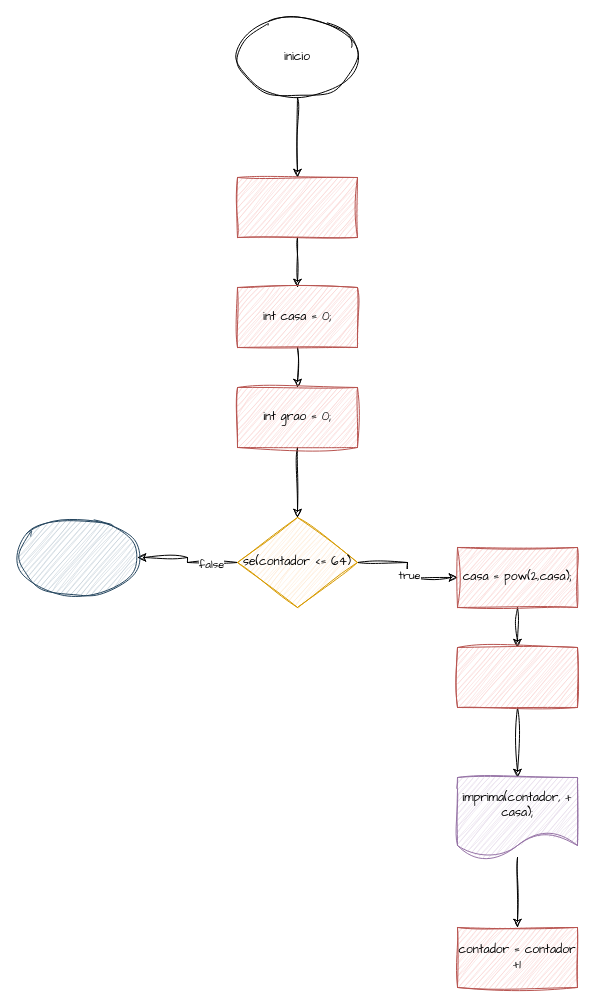
Some shapes in this 595 by 1005 pixel diagram are drawn without their labels. The box of each missing label's shape, as (x1, y1, x2, y2) in pixels:
fim: (16, 516, 138, 598)
grao = grao + casa;: (456, 646, 578, 708)
int contador = 0;: (236, 176, 358, 238)
